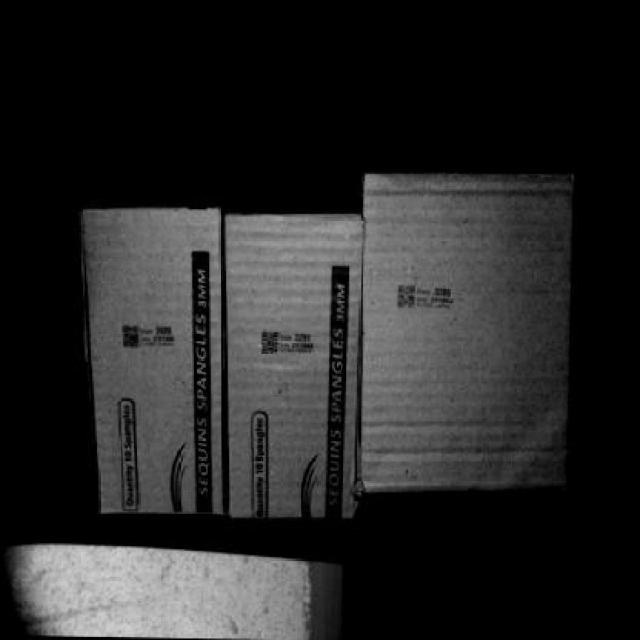cardboxes: (362, 173, 576, 490), (80, 207, 226, 516), (224, 214, 358, 517)
